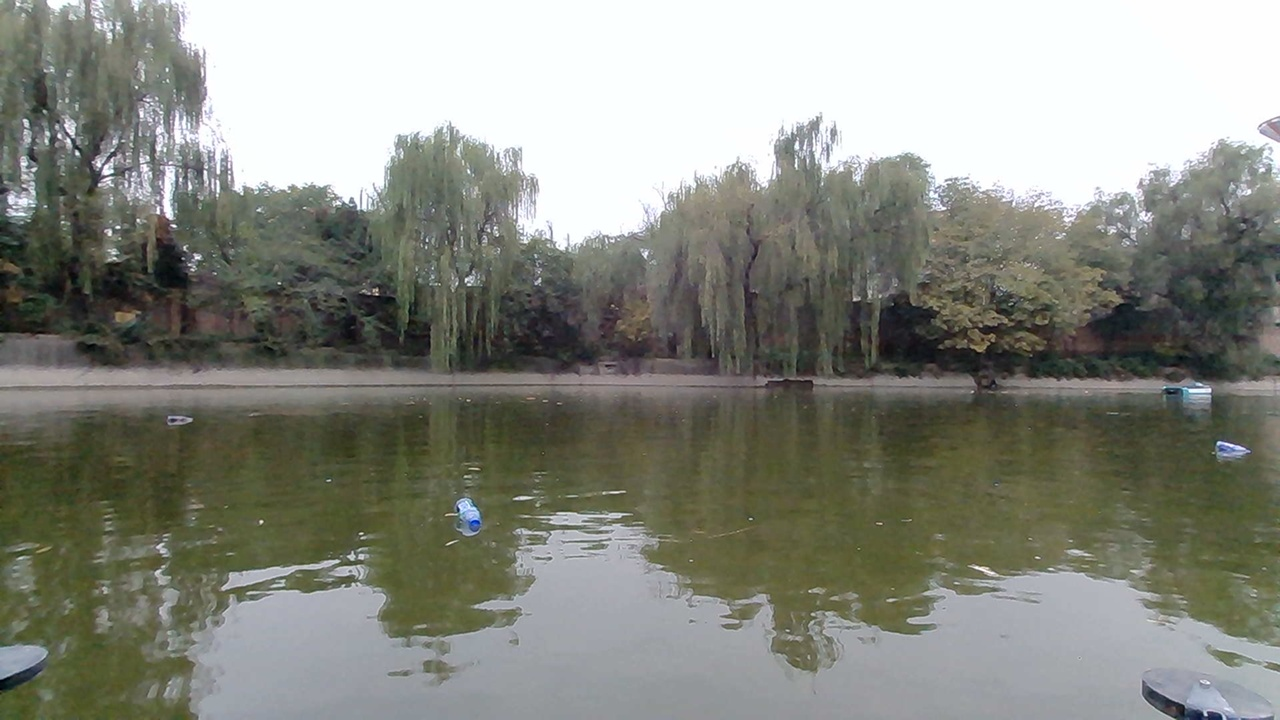bottle: (444, 499, 494, 536), (1207, 435, 1252, 469), (164, 398, 196, 432)
